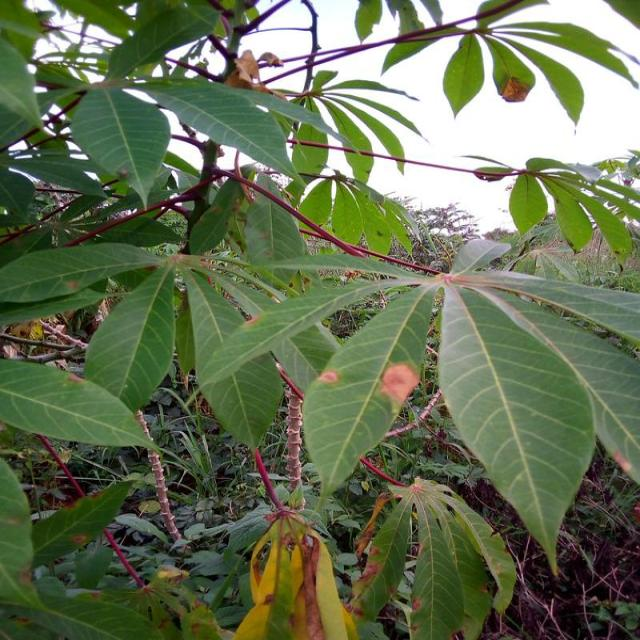cassava leaf: (437, 276, 598, 577), (301, 278, 438, 500), (180, 258, 285, 453), (0, 356, 161, 454), (82, 256, 176, 415), (69, 81, 170, 210)
